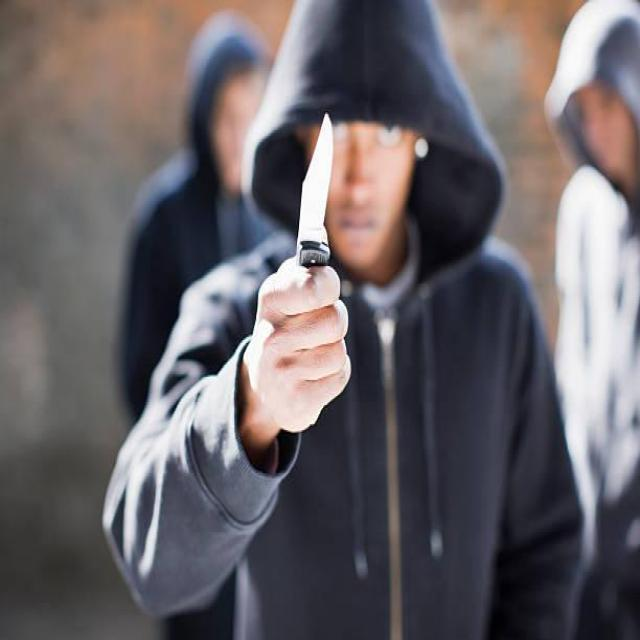faca: (240, 100, 358, 450)
